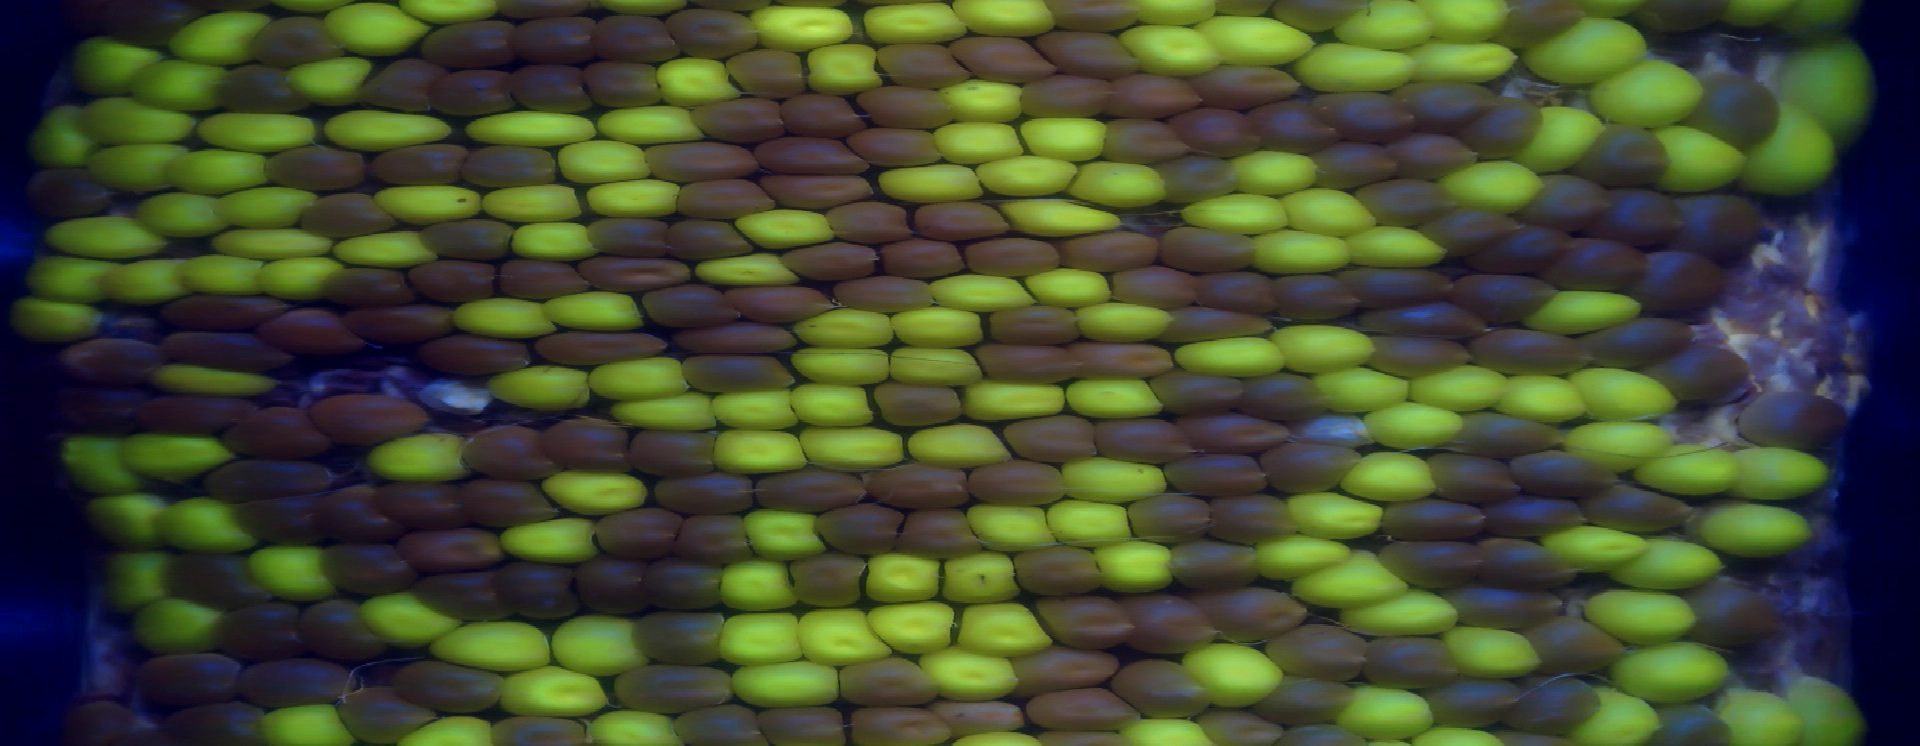fluorescent: (1783, 37, 1884, 140), (1524, 20, 1653, 87), (1587, 55, 1707, 126), (1608, 526, 1734, 590), (1641, 121, 1749, 192), (1565, 418, 1693, 477), (1288, 549, 1411, 610), (1291, 36, 1416, 93), (426, 620, 562, 673), (491, 661, 615, 718), (1618, 641, 1735, 699), (920, 639, 1025, 703), (42, 209, 181, 257), (899, 421, 1027, 472), (1633, 442, 1747, 499), (1701, 499, 1820, 552), (1753, 111, 1840, 185), (72, 92, 193, 145), (1580, 679, 1674, 746), (1119, 21, 1227, 80), (1340, 583, 1462, 635), (951, 599, 1058, 658), (122, 428, 238, 481), (997, 194, 1129, 240), (1189, 641, 1284, 704), (1537, 521, 1647, 576), (247, 538, 339, 604), (478, 363, 598, 413), (1524, 285, 1647, 334), (80, 488, 178, 549), (1587, 588, 1700, 641), (726, 661, 850, 709), (64, 31, 164, 89), (1569, 361, 1678, 415), (541, 463, 655, 514), (1441, 624, 1549, 677), (162, 13, 269, 67), (795, 601, 895, 659), (791, 423, 909, 472), (102, 546, 180, 620), (1364, 397, 1473, 450), (323, 2, 432, 55), (153, 355, 278, 401), (1787, 677, 1869, 746), (1198, 15, 1315, 62), (1176, 331, 1293, 379), (329, 107, 457, 151), (1720, 685, 1811, 746), (367, 431, 478, 481), (1341, 684, 1436, 741), (1327, 2, 1445, 49), (552, 611, 645, 670), (157, 495, 253, 551), (362, 592, 459, 648), (1059, 453, 1173, 501), (1441, 156, 1547, 207), (88, 142, 193, 194), (1335, 447, 1439, 499), (583, 352, 692, 401), (1735, 443, 1832, 499), (204, 220, 339, 260), (58, 428, 142, 490), (1520, 107, 1600, 171), (197, 107, 318, 149), (1333, 223, 1445, 269), (1271, 323, 1378, 371), (1247, 527, 1353, 575), (129, 58, 223, 111), (130, 599, 224, 653), (1073, 157, 1164, 212), (866, 600, 961, 653), (446, 295, 560, 339), (100, 257, 193, 311), (716, 608, 807, 663), (879, 345, 989, 391), (747, 4, 860, 48), (370, 181, 482, 225), (327, 225, 440, 269), (541, 287, 647, 333), (961, 380, 1075, 423), (1278, 186, 1378, 235), (1406, 363, 1505, 412), (977, 151, 1079, 198), (1022, 114, 1117, 165), (612, 390, 720, 434), (460, 111, 599, 146), (26, 252, 124, 300), (219, 185, 320, 232), (500, 513, 602, 559), (940, 556, 1025, 611), (167, 148, 268, 194), (1407, 43, 1517, 85), (744, 506, 829, 560), (255, 252, 345, 303), (257, 703, 362, 746), (862, 2, 977, 42), (1046, 497, 1138, 546), (714, 426, 813, 472), (891, 306, 991, 352), (862, 552, 943, 608), (6, 295, 99, 343), (792, 309, 895, 352), (733, 205, 836, 247), (595, 103, 704, 143), (480, 184, 589, 224), (1416, 1, 1512, 47), (1289, 492, 1386, 538), (1095, 541, 1176, 595), (707, 388, 800, 435), (931, 118, 1026, 163), (923, 273, 1037, 311), (945, 1, 1065, 37), (1498, 371, 1584, 420), (1177, 191, 1288, 229), (878, 164, 989, 202), (787, 347, 901, 383), (1255, 233, 1356, 274), (1075, 304, 1176, 345), (782, 382, 877, 426), (508, 220, 602, 265), (966, 505, 1063, 548), (693, 254, 806, 290), (22, 109, 99, 162), (1016, 266, 1117, 306), (560, 138, 651, 183), (934, 80, 1029, 122), (807, 43, 883, 96), (1315, 367, 1413, 408), (722, 559, 797, 611), (180, 254, 268, 298), (658, 59, 738, 107), (135, 191, 228, 232), (593, 176, 683, 214), (1070, 381, 1167, 416), (1776, 1, 1862, 40), (1237, 151, 1315, 194), (396, 713, 495, 746), (291, 60, 367, 103), (589, 710, 680, 746), (1118, 717, 1210, 746), (397, 1, 507, 24), (1724, 1, 1799, 33), (1416, 725, 1515, 746), (1140, 1, 1221, 26), (595, 1, 698, 16), (1584, 1, 1647, 21)
nonfluorescent: (1104, 653, 1215, 717), (1693, 73, 1783, 152), (1512, 608, 1629, 668), (1120, 586, 1218, 657), (1678, 578, 1788, 641), (1195, 581, 1311, 639), (1742, 387, 1851, 450), (1584, 477, 1697, 537), (1256, 432, 1367, 494), (160, 326, 302, 372), (1449, 582, 1572, 633), (457, 472, 568, 528), (158, 283, 293, 330), (324, 537, 429, 597), (408, 570, 516, 627), (1272, 619, 1369, 682), (165, 550, 266, 611), (392, 657, 504, 710), (131, 652, 255, 701), (748, 165, 882, 211), (227, 401, 329, 459), (1638, 243, 1718, 318), (1365, 632, 1462, 695), (1509, 443, 1620, 497), (253, 303, 367, 355), (332, 684, 436, 741), (632, 606, 731, 666), (460, 428, 568, 483), (1476, 325, 1588, 377), (612, 664, 740, 710), (301, 599, 396, 661), (1005, 541, 1117, 594), (1476, 220, 1572, 281), (1582, 314, 1687, 369), (1033, 592, 1138, 647), (1643, 343, 1749, 397), (1480, 530, 1581, 587), (1510, 674, 1605, 733), (239, 654, 362, 699), (1464, 94, 1550, 159), (1013, 647, 1129, 695), (48, 334, 164, 382), (1382, 535, 1488, 588), (1093, 413, 1198, 465), (1453, 269, 1555, 323), (1522, 170, 1611, 232), (350, 300, 468, 347), (1558, 232, 1648, 292), (639, 552, 726, 615), (1424, 446, 1524, 500), (867, 459, 975, 510), (309, 396, 438, 437), (1371, 330, 1482, 379), (758, 464, 871, 512), (1309, 91, 1416, 141), (969, 461, 1078, 510), (1678, 196, 1760, 261), (650, 470, 762, 518), (781, 551, 876, 608), (418, 333, 538, 377), (1163, 447, 1269, 497), (878, 232, 973, 287), (1358, 300, 1488, 341), (216, 61, 309, 118), (873, 381, 975, 432), (1164, 540, 1269, 590), (541, 419, 640, 472), (836, 269, 951, 315), (1176, 409, 1297, 452), (1125, 491, 1220, 546), (1022, 688, 1144, 731), (1254, 671, 1352, 724), (1037, 27, 1145, 75), (665, 7, 760, 61), (359, 51, 444, 111), (831, 660, 948, 704), (135, 390, 251, 434), (372, 481, 474, 532), (1419, 207, 1518, 258), (418, 216, 522, 265), (209, 453, 336, 494), (54, 383, 160, 431), (1107, 65, 1201, 119), (636, 284, 744, 331), (87, 1, 207, 43), (396, 527, 506, 572), (242, 486, 333, 541), (754, 140, 882, 179), (683, 354, 800, 397), (954, 36, 1056, 85), (242, 17, 347, 65), (673, 174, 780, 220), (1338, 265, 1453, 307), (1158, 299, 1276, 341), (572, 559, 655, 617), (1198, 64, 1311, 107), (298, 194, 402, 240), (262, 145, 369, 190), (1206, 488, 1296, 541), (1455, 409, 1564, 453), (1379, 497, 1488, 541), (962, 234, 1071, 278), (1171, 107, 1269, 156), (506, 13, 606, 61), (899, 506, 986, 561), (676, 511, 756, 571), (727, 44, 812, 100), (720, 274, 828, 318), (165, 701, 269, 746), (464, 138, 560, 187), (629, 423, 722, 473), (816, 503, 906, 555), (667, 318, 798, 354), (1483, 492, 1588, 537), (976, 339, 1081, 383), (498, 559, 577, 617), (504, 60, 594, 111), (1156, 225, 1260, 269), (370, 143, 474, 187), (220, 600, 304, 655), (1608, 190, 1687, 247), (531, 328, 665, 363), (1003, 414, 1109, 457), (422, 20, 516, 69), (659, 212, 752, 261), (1580, 121, 1660, 178), (1309, 140, 1397, 191), (1248, 99, 1342, 147), (587, 16, 681, 64), (594, 510, 686, 559), (858, 85, 956, 130), (433, 64, 516, 118), (1428, 681, 1522, 728), (578, 254, 693, 292), (312, 479, 389, 535), (1493, 1, 1583, 49), (1266, 273, 1362, 318), (58, 701, 153, 746), (1400, 82, 1498, 126), (691, 97, 789, 141), (637, 141, 758, 176), (844, 706, 949, 746), (1358, 176, 1453, 220), (845, 125, 948, 165), (1386, 131, 1483, 174), (1187, 269, 1282, 312), (1240, 374, 1326, 421), (502, 255, 598, 298), (1155, 152, 1238, 201), (409, 258, 501, 303), (782, 241, 885, 281), (1063, 234, 1162, 274), (1149, 371, 1248, 412), (1022, 76, 1113, 120), (819, 200, 910, 244), (320, 261, 413, 304), (912, 200, 1008, 241), (872, 44, 970, 85), (782, 91, 869, 136), (587, 61, 669, 109), (678, 706, 773, 746), (27, 167, 107, 214), (1194, 707, 1289, 746), (588, 214, 675, 257), (1102, 119, 1191, 160), (932, 695, 1030, 733), (1067, 338, 1171, 374), (756, 707, 849, 746), (988, 306, 1082, 343), (1042, 1, 1144, 34), (1273, 1, 1374, 34), (1109, 266, 1195, 304), (1656, 706, 1735, 746), (1633, 1, 1728, 34), (492, 717, 591, 746), (1282, 722, 1364, 746)
